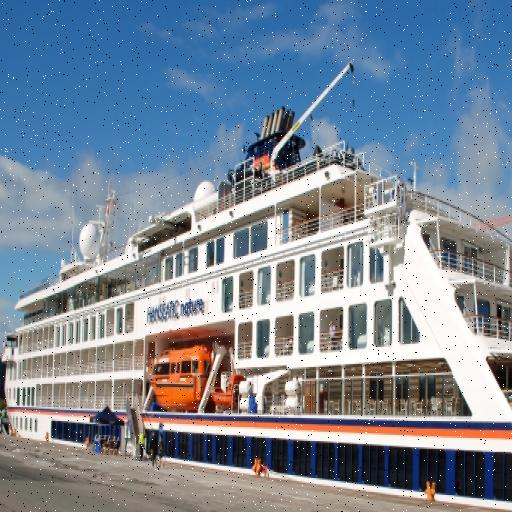cruises: (5, 86, 512, 512)
